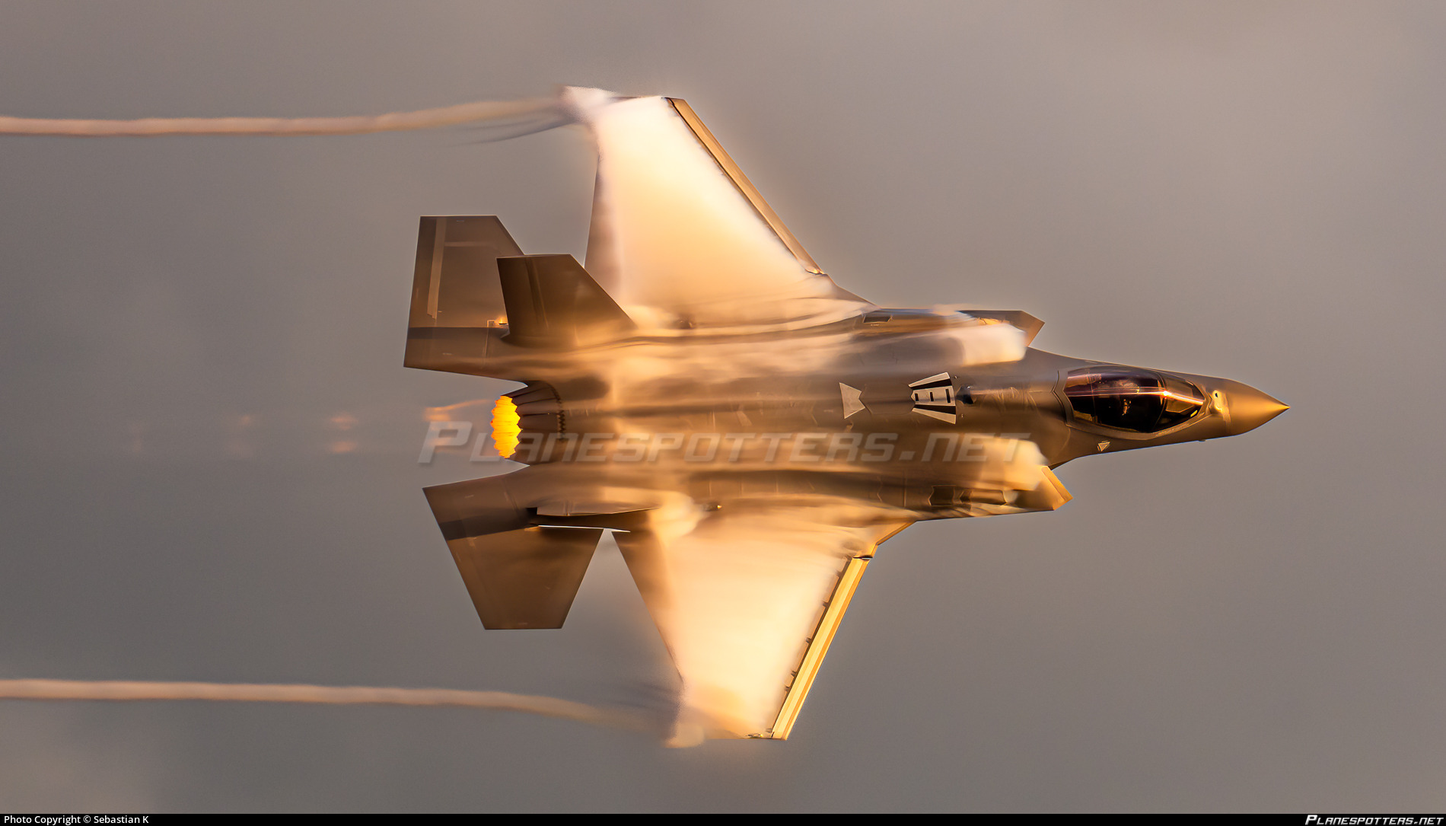F35: (401, 86, 1289, 754)
